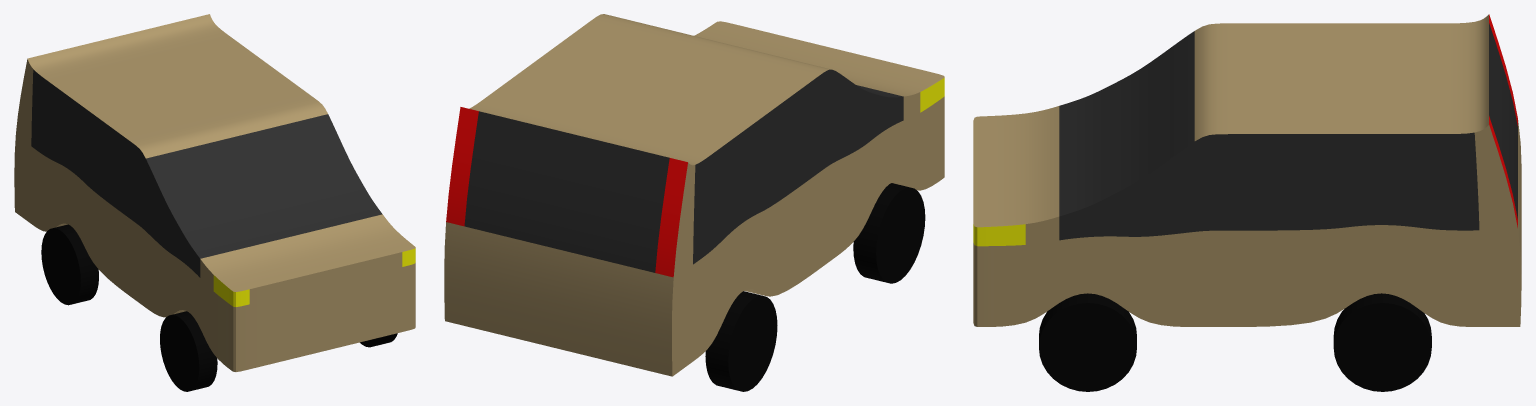
File: Car.fbx
3 renders of one model, left to right at view 1: azimuth 30°, elevation 25°; view 2: azimuth 150°, elevation 25°; view 3: azimuth 270°, elevation 25°, orthographic. The views are drawn at different scales.
Parts seen in each view (by area): view 1: Parado_Bod, W_B_R, W_F_R; view 2: Parado_Bod, W_F_R, W_B_R; view 3: Parado_Bod, W_B_L, W_F_L.
Boxes of the visible parts, left/top/right/bottom form: Parado_Bod: left=14, top=14, right=415, bottom=371; W_B_R: left=41, top=224, right=98, bottom=305; W_F_R: left=160, top=311, right=217, bottom=391; Parado_Bod: left=444, top=14, right=944, bottom=376; W_F_R: left=853, top=183, right=925, bottom=283; W_B_R: left=705, top=291, right=777, bottom=391; Parado_Bod: left=973, top=14, right=1521, bottom=326; W_B_L: left=1333, top=293, right=1431, bottom=391; W_F_L: left=1039, top=293, right=1136, bottom=391.
Size of the model in its own units: 233 by 233 by 443.
